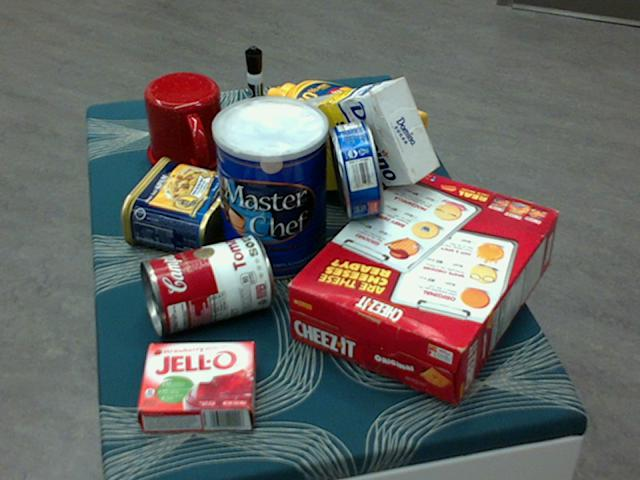cracker_box: (286, 166, 558, 403)
gelatin_box: (137, 341, 256, 430)
large_marker: (244, 45, 266, 148)
master_chef_can: (211, 97, 327, 282)
mug: (144, 72, 229, 175)
mustard_bottle: (265, 79, 426, 173)
potted_meat_can: (120, 157, 241, 256)
sugar_box: (271, 78, 438, 190)
tomato_soup_can: (139, 235, 272, 334)
tuna_fish_can: (329, 118, 384, 217)
